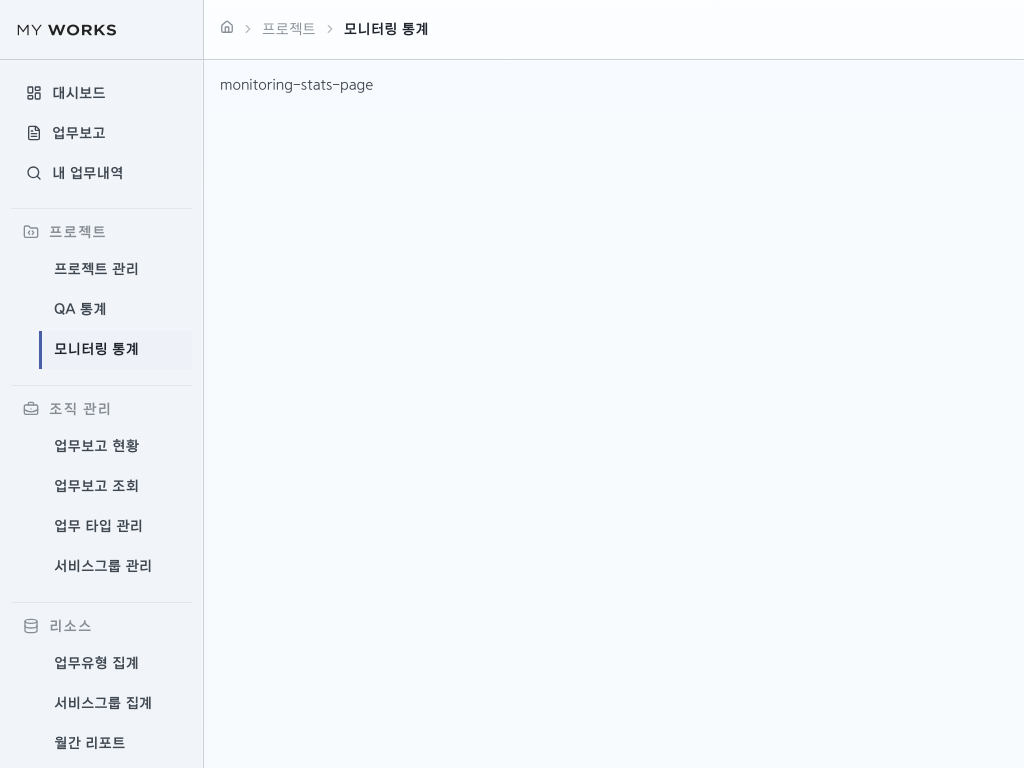
it: AppShell › moves to dashboard when clicking breadcrumb home
What coordinates should you click on to do the following:
click the link named "홈으로 가기"
I would click on:
 (227, 27)
Its box is left=220, top=20, right=234, bottom=34.
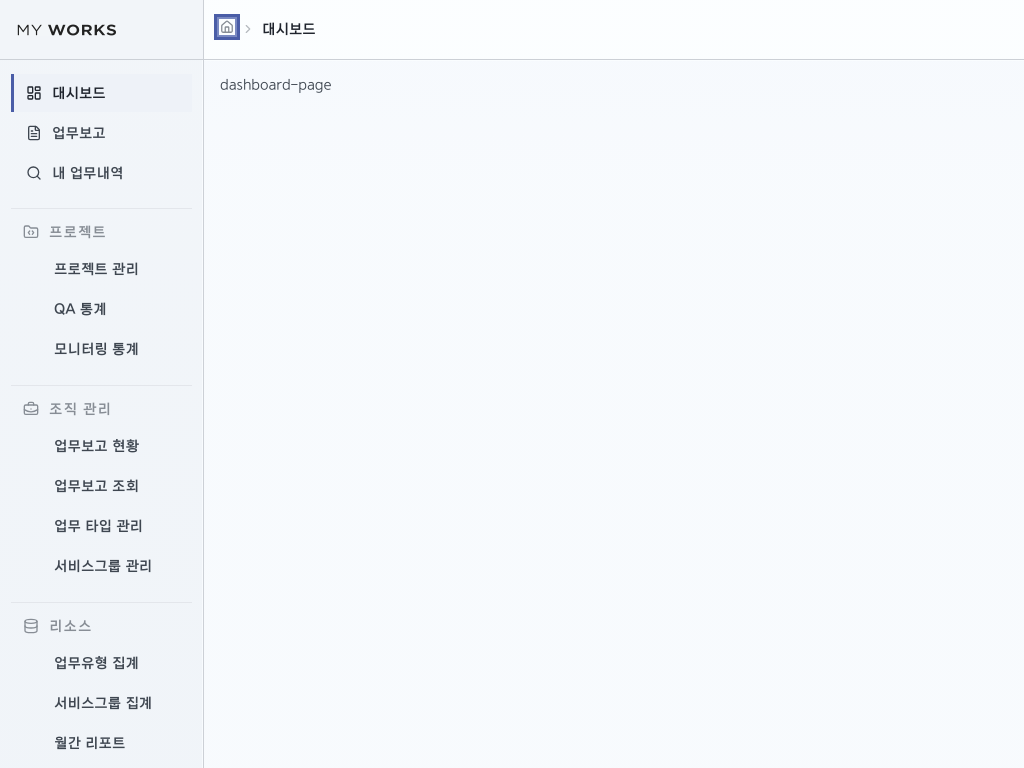
Result: the text "dashboard-page" is shown at left=220, top=76, right=332, bottom=93
